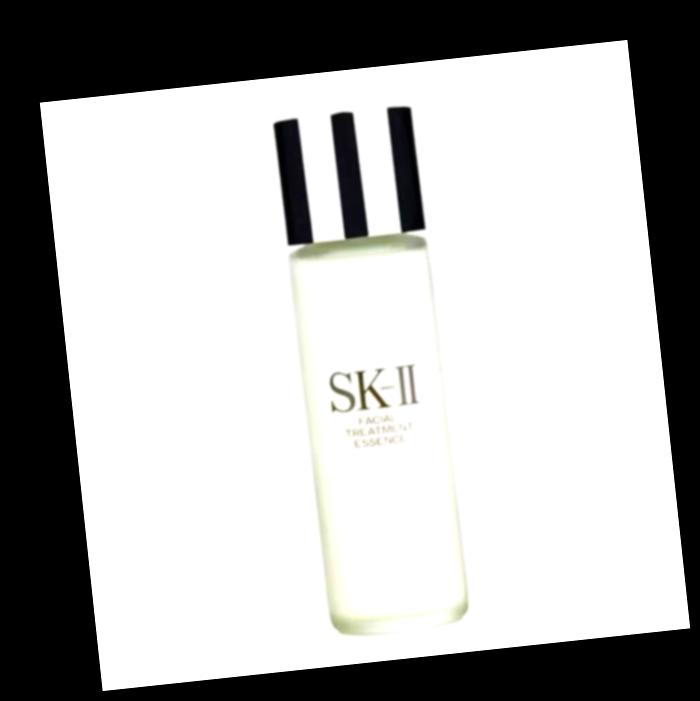cosmetic: (271, 106, 476, 642)
